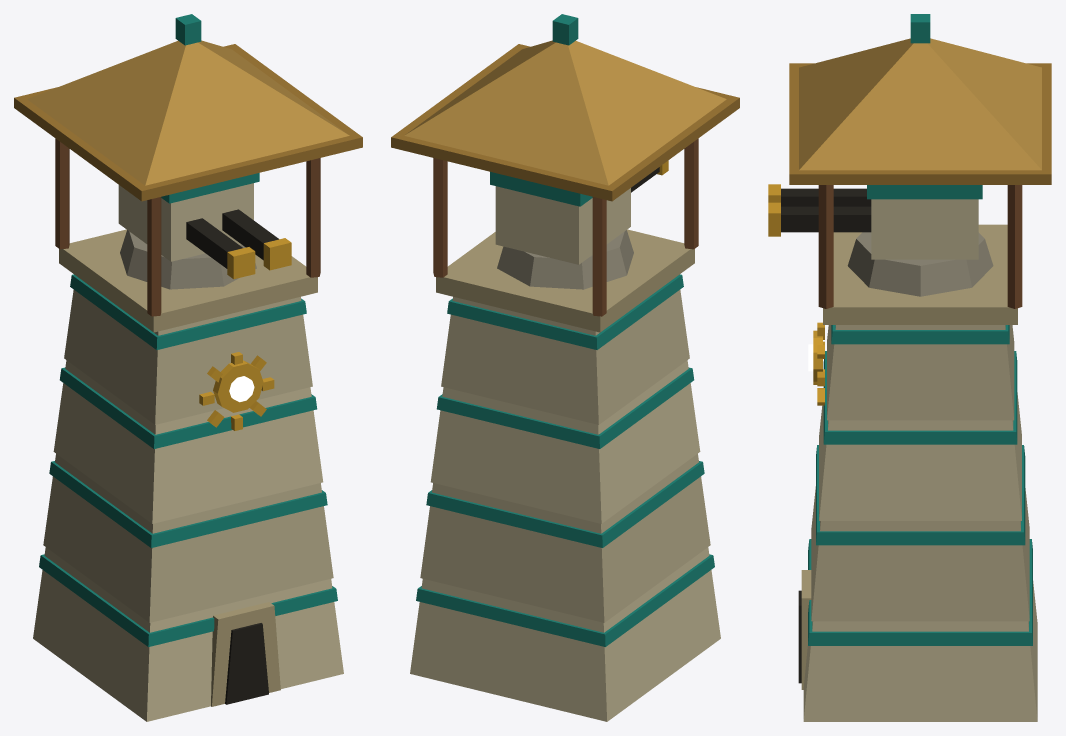
Rendered from tower_t3.glb.
The picture shows the model from 3 angles, left to right: view 1: azimuth 30°, elevation 25°; view 2: azimuth 150°, elevation 25°; view 3: azimuth 270°, elevation 25°; orthographic projection. The views are drawn at different scales.
Parts seen in each view (by area): view 1: body, part_turret; view 2: body, part_turret; view 3: body, part_turret.
Boxes of the visible parts, bbox=[...] form: body: bbox=[14, 14, 362, 721]; part_turret: bbox=[118, 173, 291, 289]; body: bbox=[391, 14, 739, 721]; part_turret: bbox=[490, 160, 668, 289]; body: bbox=[789, 14, 1051, 721]; part_turret: bbox=[768, 184, 993, 296].
Size of the model in its own units: 1.35 by 3.7 by 1.45.
